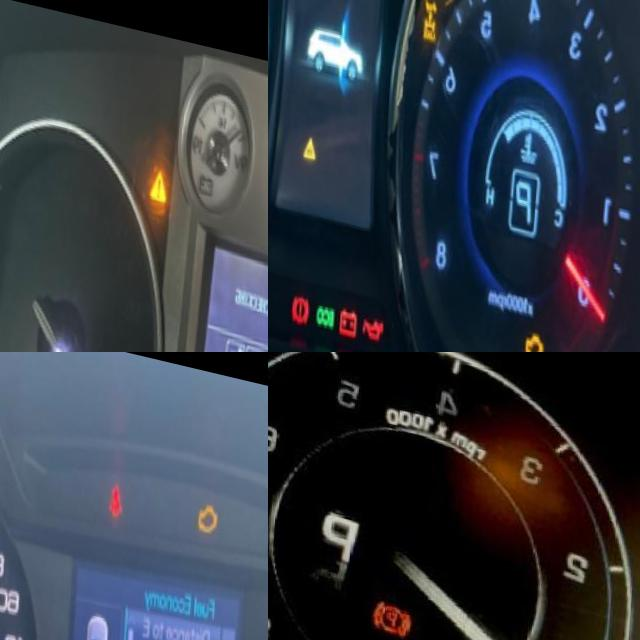Seat Belt: (107, 465, 127, 511)
